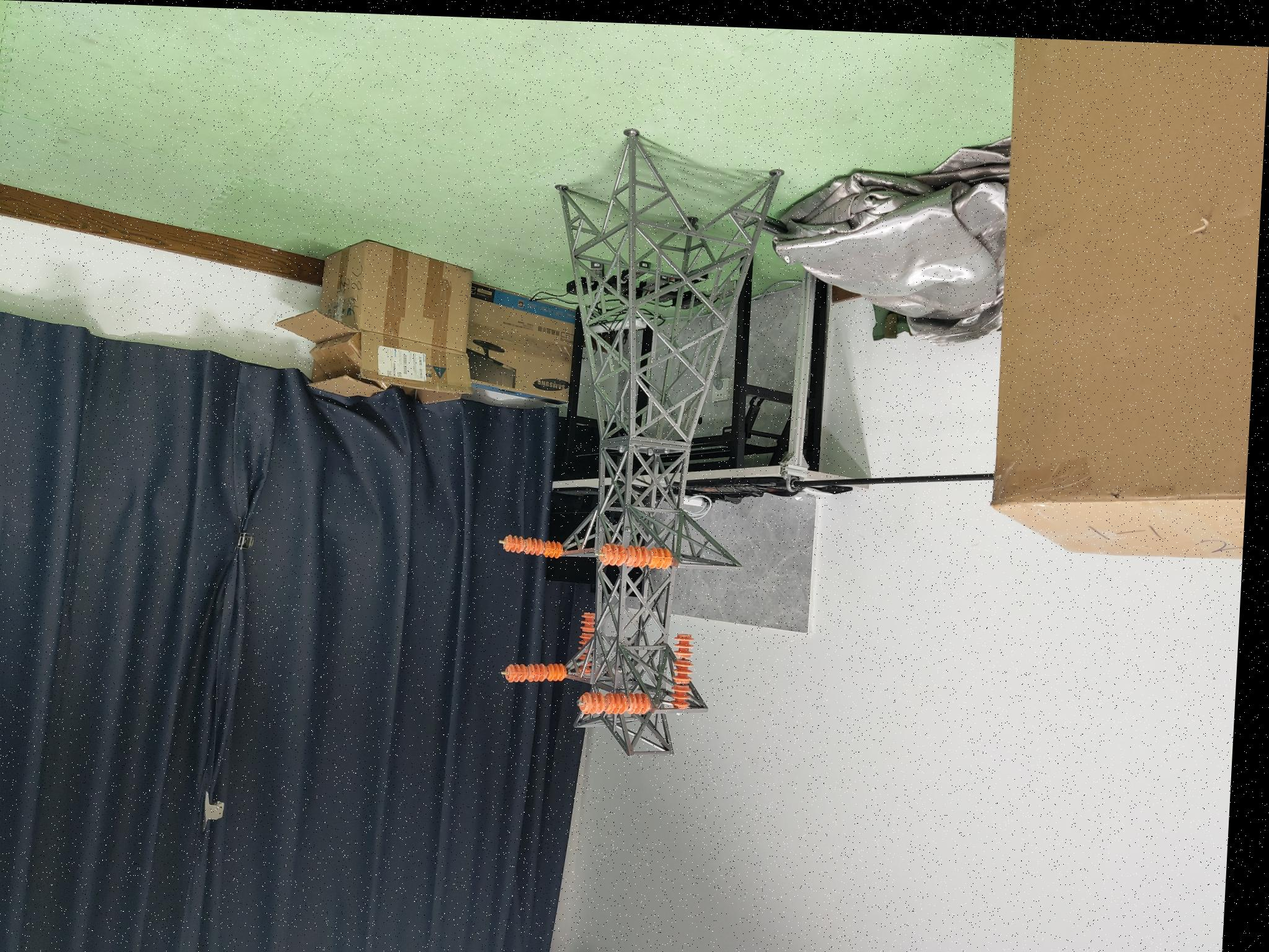tower: (532, 139, 781, 759)
